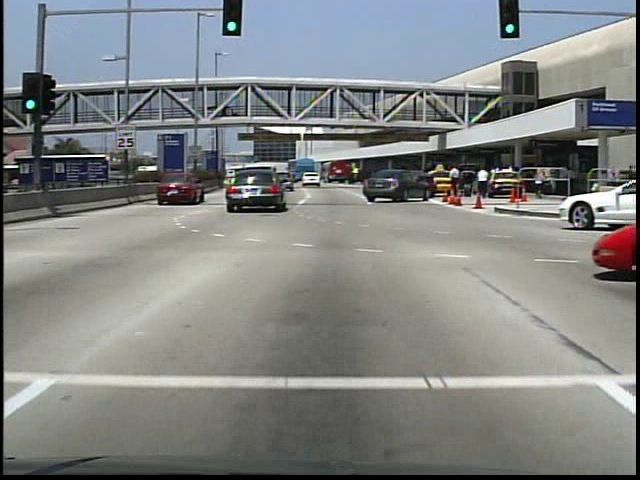person: (448, 166, 465, 204), (473, 168, 490, 202), (530, 167, 545, 202), (219, 100, 229, 120)
